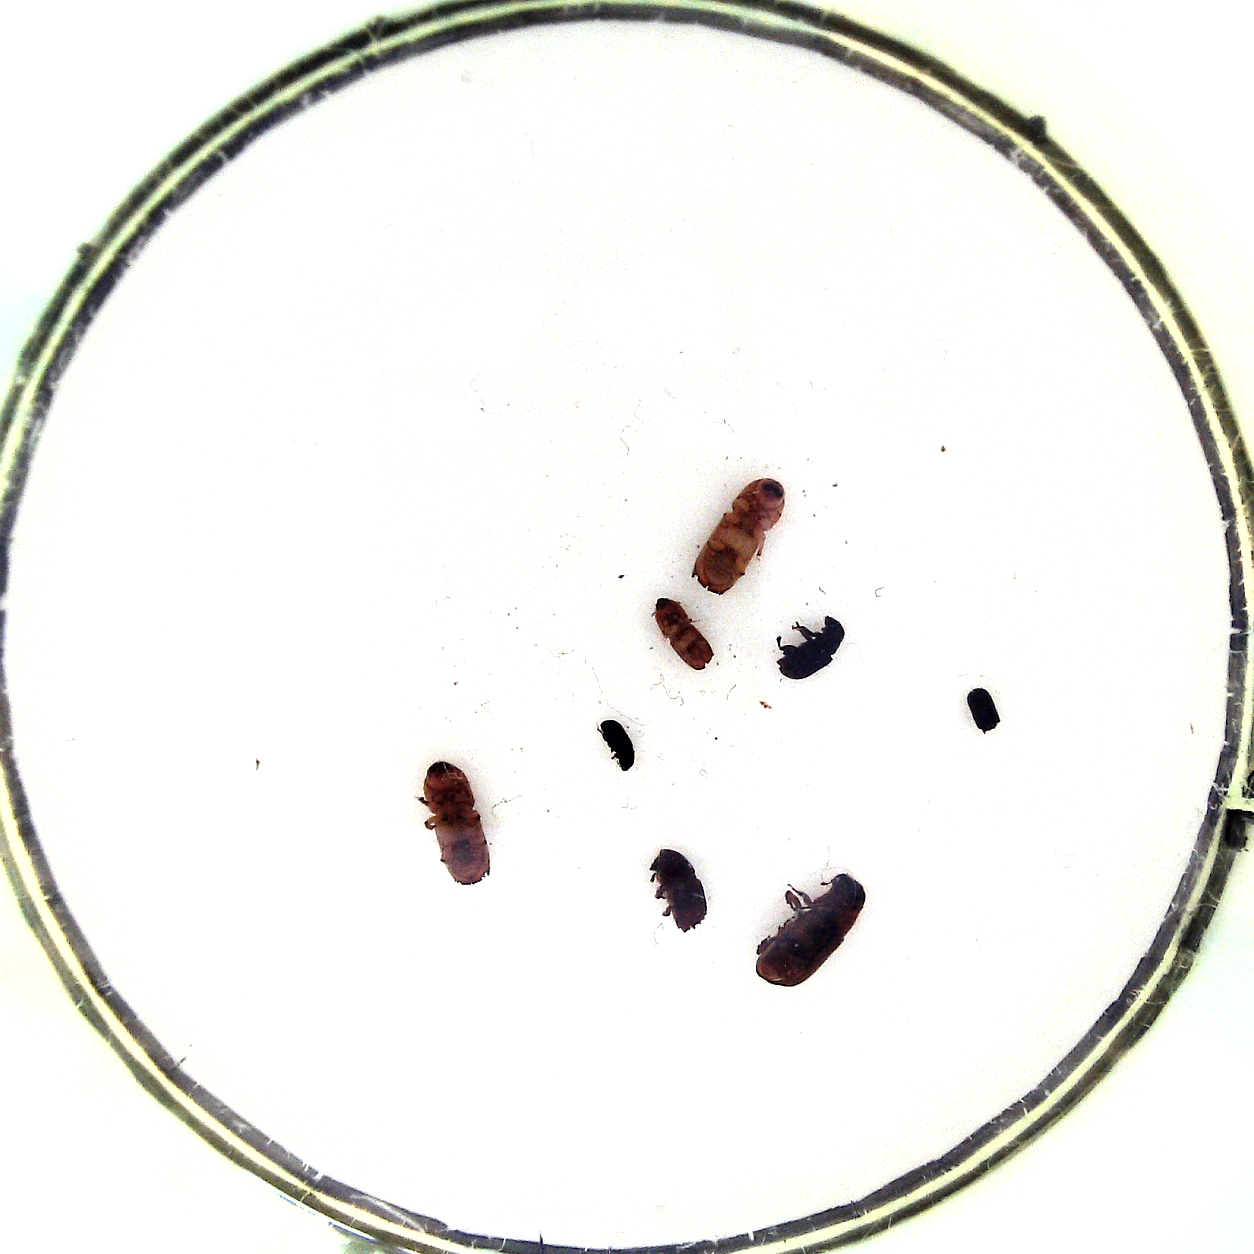Boerner: (688, 475, 791, 601), (415, 759, 496, 893)
Leconte: (748, 864, 873, 993)
Linnaeus: (650, 847, 709, 934)
acuminatus: (653, 599, 714, 673)
armandi: (771, 611, 847, 688)
coleoptera: (591, 718, 642, 773), (963, 683, 1003, 737)
